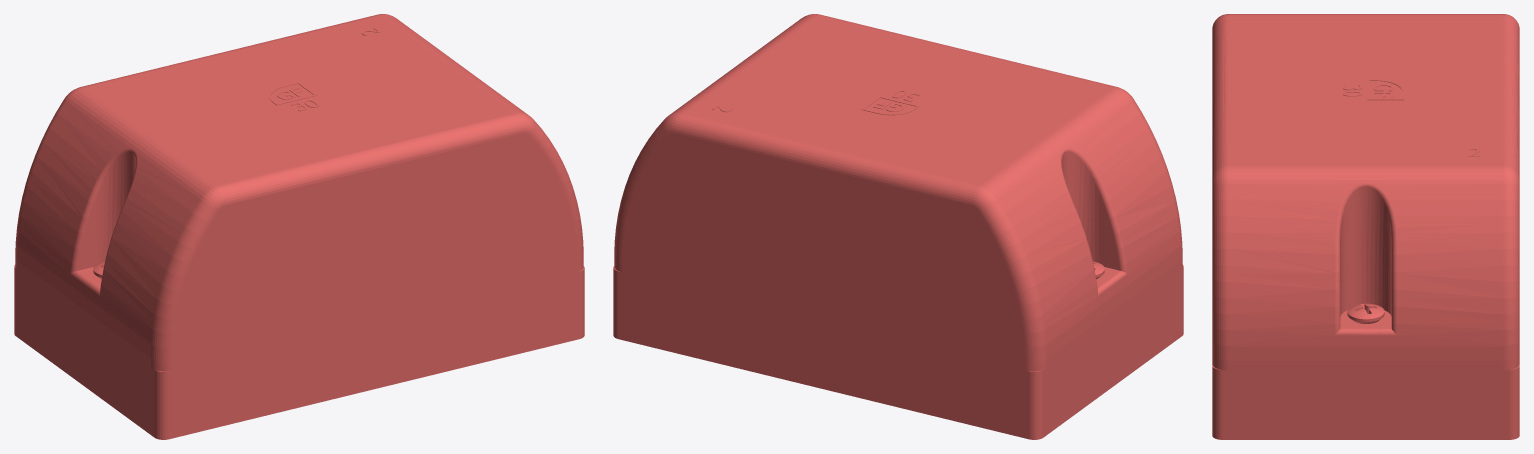
File: lampe.dae
3 renders of one model, left to right at view 1: azimuth 30°, elevation 25°; view 2: azimuth 150°, elevation 25°; view 3: azimuth 270°, elevation 25°, orthographic. The views are drawn at different scales.
Visible parts, largest first — view 1: Lampe; view 2: Lampe; view 3: Lampe.
Part boxes in pixels (<box>): Lampe: <box>14,14,584,439</box>; Lampe: <box>613,14,1183,439</box>; Lampe: <box>1212,14,1519,439</box>.
Bounding box in the file's own units: 0.095 × 0.057 × 0.0495.
